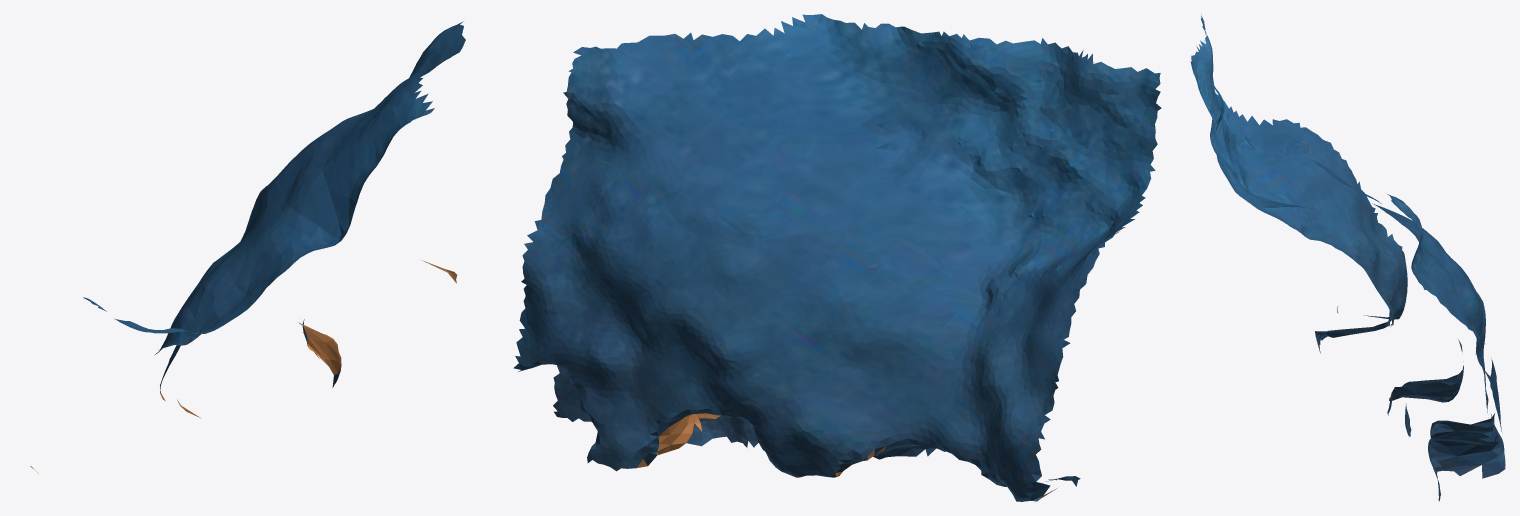
Rendered from tile_0490.gltf.
The picture shows the model from 3 angles, left to right: view 1: azimuth 30°, elevation 25°; view 2: azimuth 150°, elevation 25°; view 3: azimuth 270°, elevation 25°; orthographic projection. The views are drawn at different scales.
Parts seen in each view (by area): view 1: defaultobject; view 2: defaultobject; view 3: defaultobject.
Part boxes in pixels (x1,y1,x2,y2): defaultobject: (30,21,465,473); defaultobject: (513,14,1161,501); defaultobject: (1190,14,1505,501).
Size of the model in its own units: 0.5766 by 0.4173 by 0.3923.
Materials: 2 (2 with a texture image).
